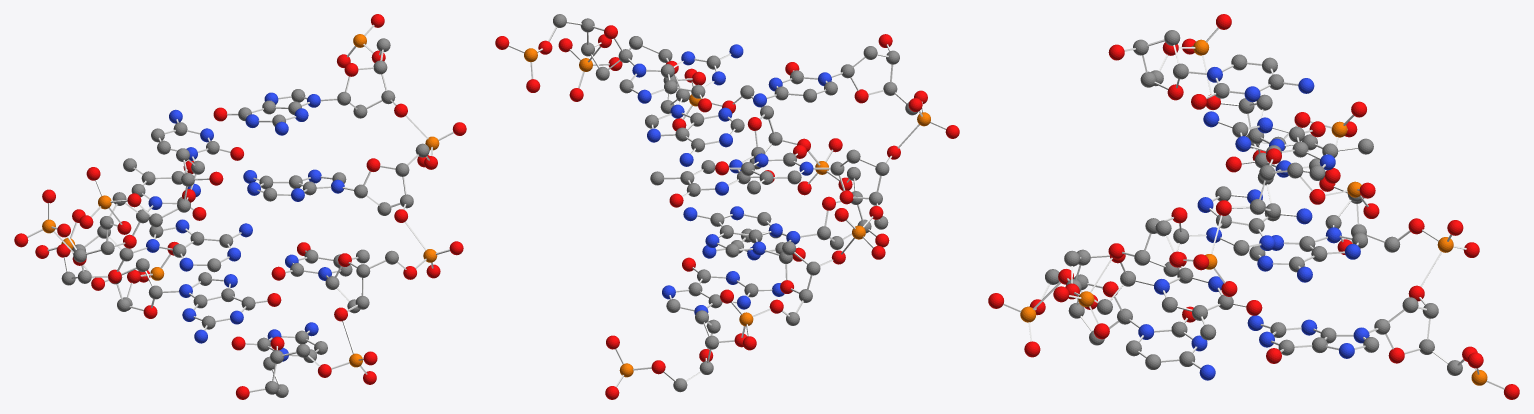
The picture shows the model from 3 angles, left to right: view 1: azimuth 30°, elevation 25°; view 2: azimuth 150°, elevation 25°; view 3: azimuth 270°, elevation 25°; orthographic projection. The views are drawn at different scales.
Bounding box in the file's own units: 161300 × 109100 × 165350.
